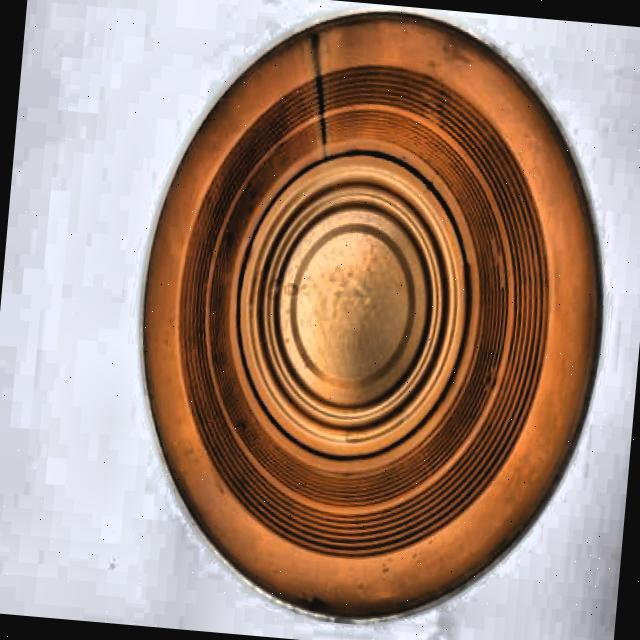metal: (113, 0, 628, 639)
